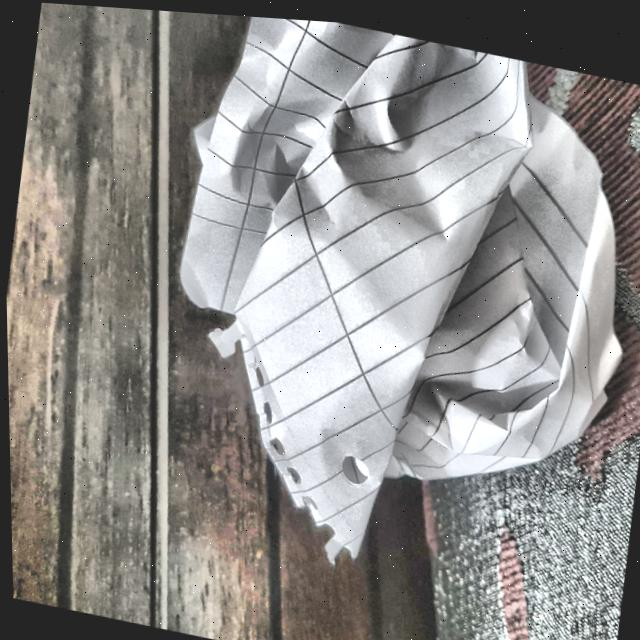paper: (130, 7, 640, 596)
